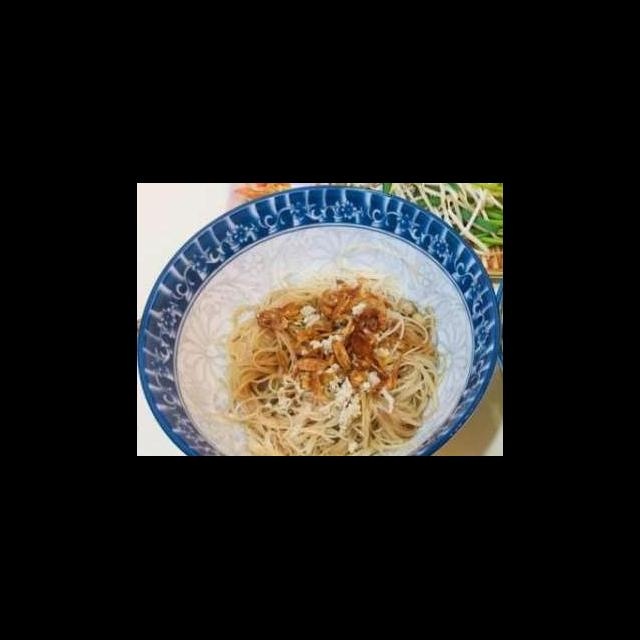banh hu tieu: (217, 266, 450, 457)
